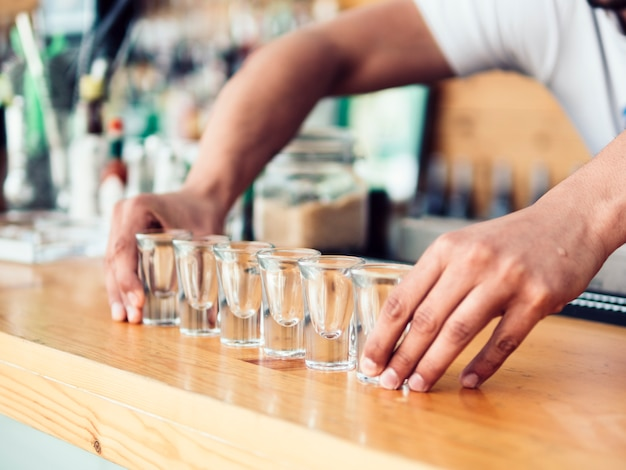alcohol: (350, 262, 423, 393), (298, 254, 363, 371), (256, 249, 319, 359), (211, 243, 271, 345), (168, 236, 225, 337), (133, 227, 188, 326)
